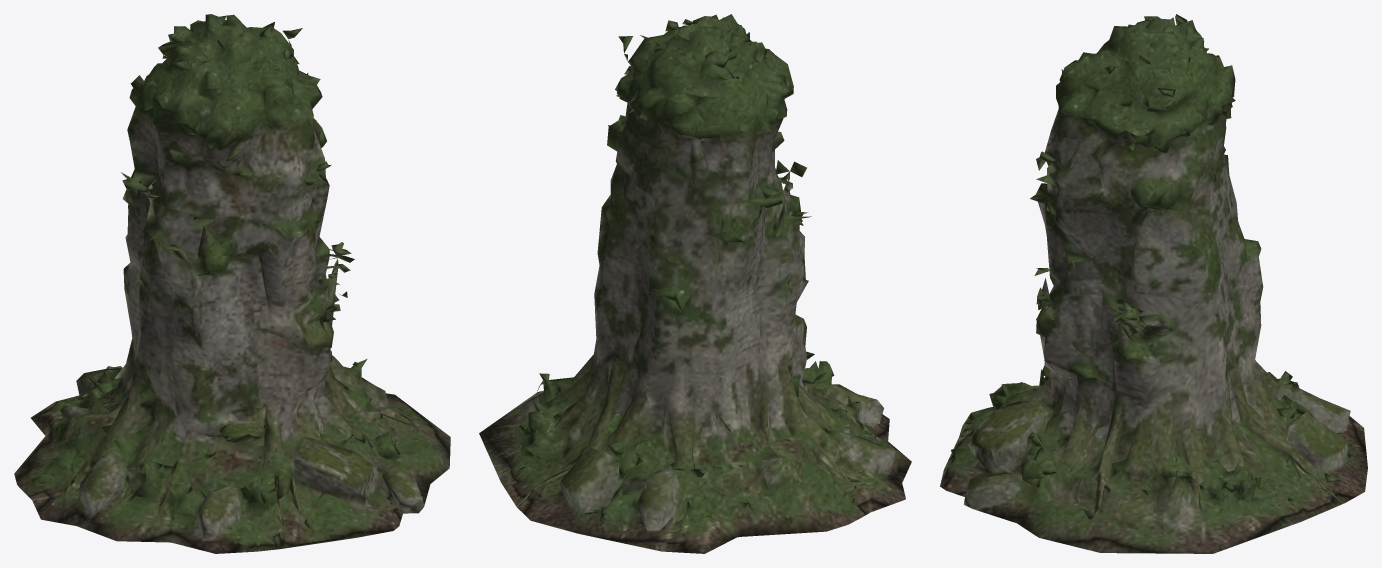
File: av_monolith_xfar.glb
3 views of the same model, side by side, from view 1: azimuth 30°, elevation 25°; view 2: azimuth 150°, elevation 25°; view 3: azimuth 270°, elevation 25° (orthographic). The views are drawn at different scales.
Visible parts, largest first — view 1: av_monolith; view 2: av_monolith; view 3: av_monolith.
Boxes of the visible parts, x1,y1,x2,y2 form: av_monolith: (14, 14, 450, 553); av_monolith: (479, 14, 911, 553); av_monolith: (940, 14, 1367, 553).
Bounding box in the file's own units: 1.75 × 1.9 × 1.68.
1 material, 1 textured.
